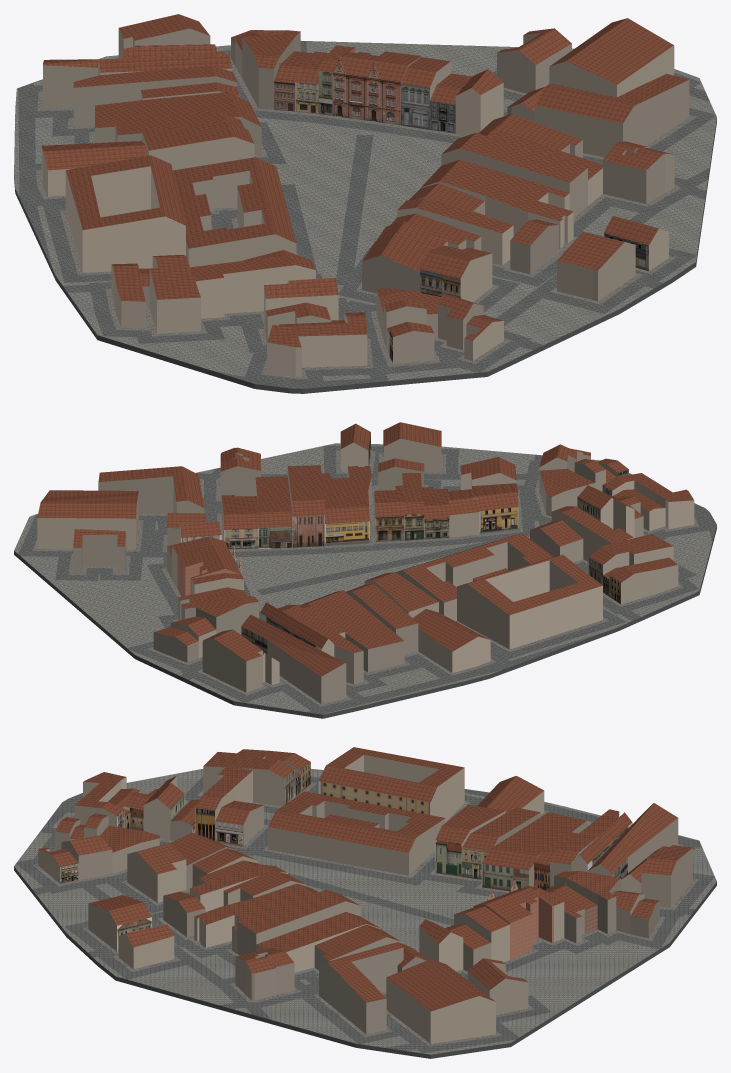
The model's file is mirove-v2.glb.
3 views of the same model, one above another, from view 1: azimuth 30°, elevation 25°; view 2: azimuth 150°, elevation 25°; view 3: azimuth 270°, elevation 25° (orthographic). The views are drawn at different scales.
Parts seen in each view (by area): view 1: Square_paving_v2, Roadways_v2_provisional, CP1_roof, Sidewalks_v2_provisional_2m, CP2_GIS_envelope, CP2_roof, CP274_roof, CP48_roof, Plinth_sides_v2, CP187_roof, CP80_roof, CP49_roof (+75 smaller); view 2: Square_paving_v2, Roadways_v2_provisional, CP2_GIS_envelope, Sidewalks_v2_provisional_2m, CP1_roof, Plinth_sides_v2, CP2_roof, CP274_roof, CP80_roof, CP48_roof, CP187_roof, CP274_coarse_FRONT (+69 smaller); view 3: Square_paving_v2, Roadways_v2_provisional, CP1_roof, Sidewalks_v2_provisional_2m, CP2_roof, CP274_GIS_envelope, Plinth_sides_v2, CP1_coarse_FRONT, CP274_roof, CP187_GIS_envelope, CP80_roof, CP49_roof (+70 smaller).
Boxes of the visible parts, left/top/right/bottom form: Square_paving_v2: left=14, top=40, right=716, bottom=380; Roadways_v2_provisional: left=18, top=41, right=716, bottom=388; CP1_roof: left=173, top=157, right=295, bottom=248; Sidewalks_v2_provisional_2m: left=36, top=56, right=695, bottom=379; CP2_GIS_envelope: left=65, top=171, right=185, bottom=272; CP2_roof: left=66, top=155, right=185, bottom=230; CP274_roof: left=549, top=18, right=673, bottom=84; CP48_roof: left=421, top=159, right=573, bottom=221; Plinth_sides_v2: left=14, top=118, right=716, bottom=393; CP187_roof: left=535, top=74, right=688, bottom=123; CP80_roof: left=95, top=92, right=261, bottom=128; CP49_roof: left=442, top=133, right=587, bottom=182; Square_paving_v2: left=14, top=443, right=711, bottom=714; Roadways_v2_provisional: left=18, top=445, right=716, bottom=714; CP2_GIS_envelope: left=457, top=568, right=602, bottom=649; Sidewalks_v2_provisional_2m: left=32, top=450, right=699, bottom=706; CP1_roof: left=396, top=533, right=553, bottom=602; Plinth_sides_v2: left=14, top=525, right=716, bottom=718; CP2_roof: left=457, top=554, right=602, bottom=615; CP274_roof: left=37, top=490, right=138, bottom=518; CP80_roof: left=303, top=590, right=403, bottom=649; CP48_roof: left=321, top=466, right=371, bottom=523; CP187_roof: left=98, top=466, right=204, bottom=508; CP274_coarse_FRONT: left=37, top=518, right=135, bottom=549; Square_paving_v2: left=14, top=769, right=716, bottom=1054; Roadways_v2_provisional: left=16, top=775, right=714, bottom=1053; CP1_roof: left=268, top=791, right=445, bottom=852; Sidewalks_v2_provisional_2m: left=32, top=782, right=698, bottom=1046; CP2_roof: left=319, top=747, right=464, bottom=802; CP274_GIS_envelope: left=386, top=977, right=495, bottom=1043; Plinth_sides_v2: left=14, top=866, right=716, bottom=1058; CP1_coarse_FRONT: left=268, top=827, right=408, bottom=875; CP274_roof: left=386, top=959, right=495, bottom=1011; CP187_GIS_envelope: left=319, top=955, right=403, bottom=1034; CP80_roof: left=482, top=812, right=586, bottom=870; CP49_roof: left=237, top=890, right=359, bottom=933.
Bounding box in the file's own units: 299 × 26.58 × 303.
Materials: 105 (47 with a texture image).
